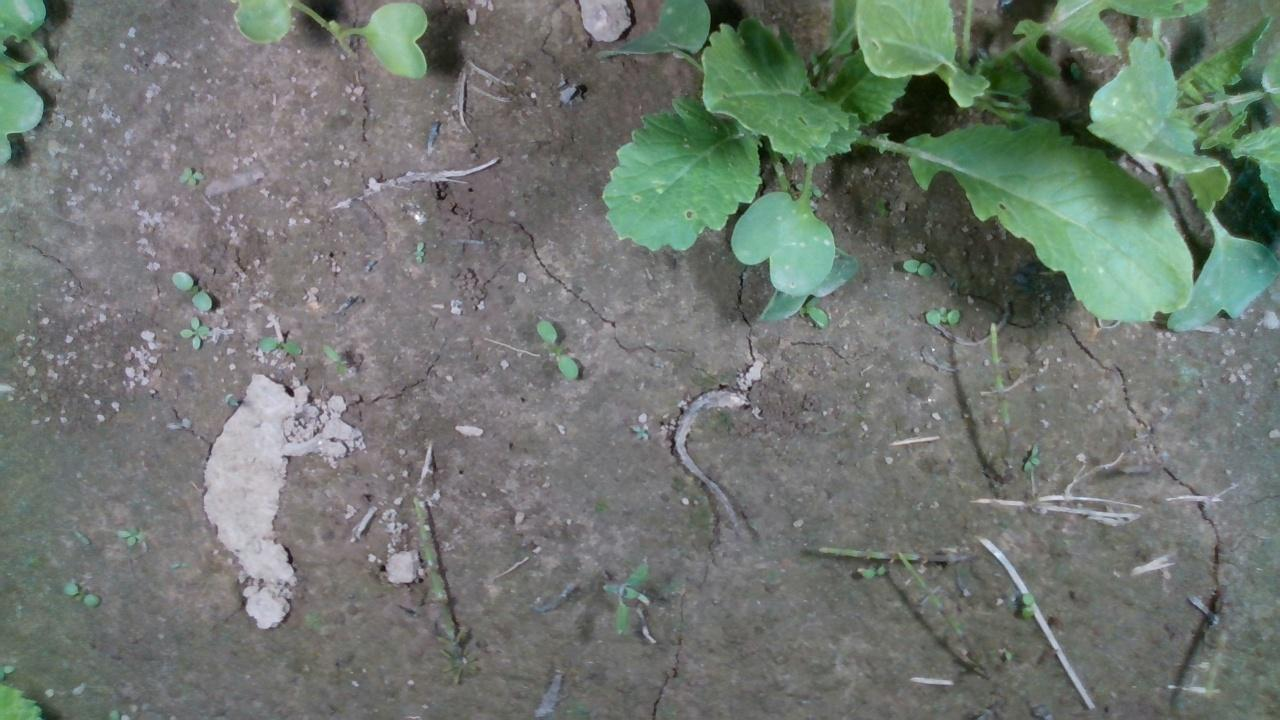weed: (599, 558, 650, 637), (533, 316, 579, 380), (170, 269, 213, 310), (319, 342, 348, 380), (253, 334, 303, 356), (59, 581, 101, 607), (178, 315, 209, 349), (920, 303, 960, 325), (113, 519, 145, 546), (900, 256, 936, 278), (1020, 440, 1040, 473), (176, 165, 204, 184), (854, 563, 886, 579), (410, 239, 426, 264), (1020, 589, 1033, 619), (71, 526, 91, 545)
